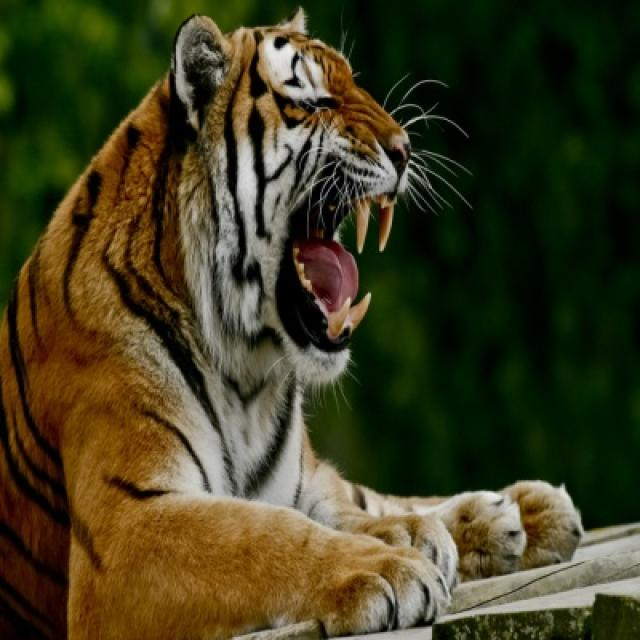Tiger: (0, 8, 585, 638)
